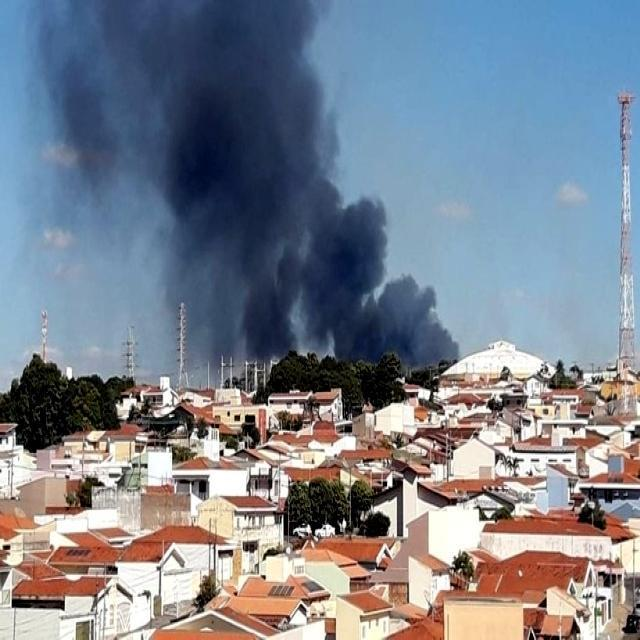Smoke: (46, 0, 463, 375)
